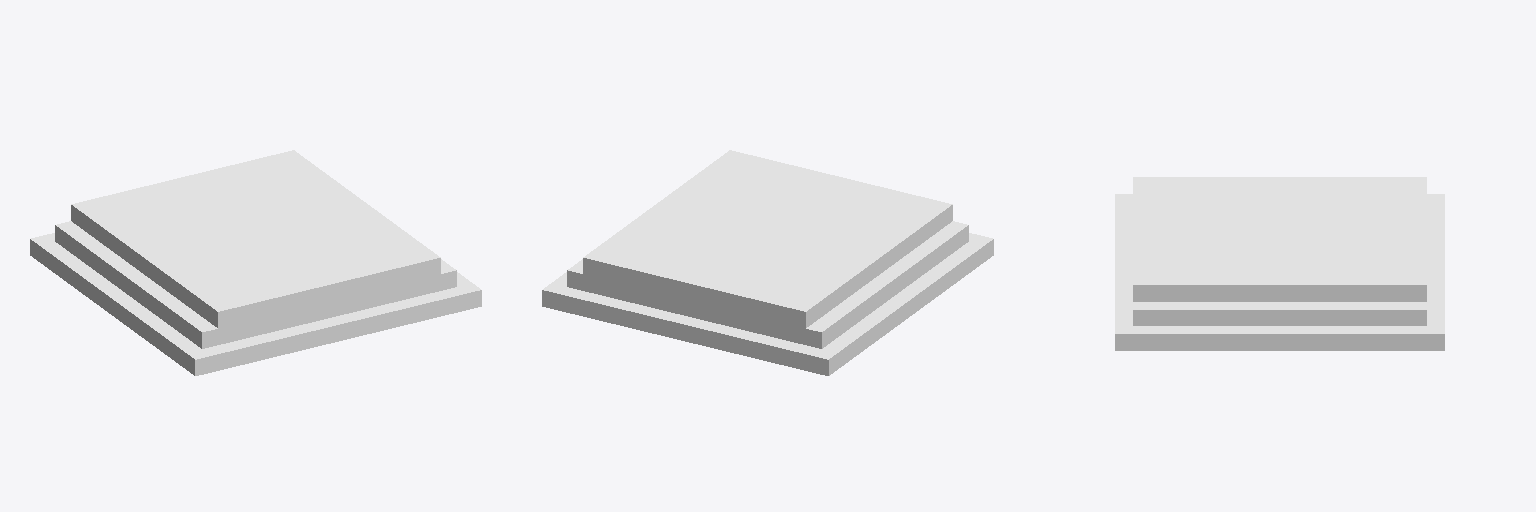
The model's file is Journal.obj.
3 renders of one model, left to right at view 1: azimuth 30°, elevation 25°; view 2: azimuth 150°, elevation 25°; view 3: azimuth 270°, elevation 25°, orthographic.
Visible parts, largest first — view 1: object 1; view 2: object 1; view 3: object 1.
Part boxes in pixels (left/top/right/bottom): object 1: left=30, top=150, right=481, bottom=375; object 1: left=542, top=150, right=993, bottom=375; object 1: left=1115, top=177, right=1444, bottom=350.
Bounding box in the file's own units: 1.8 × 0.3 × 1.8.